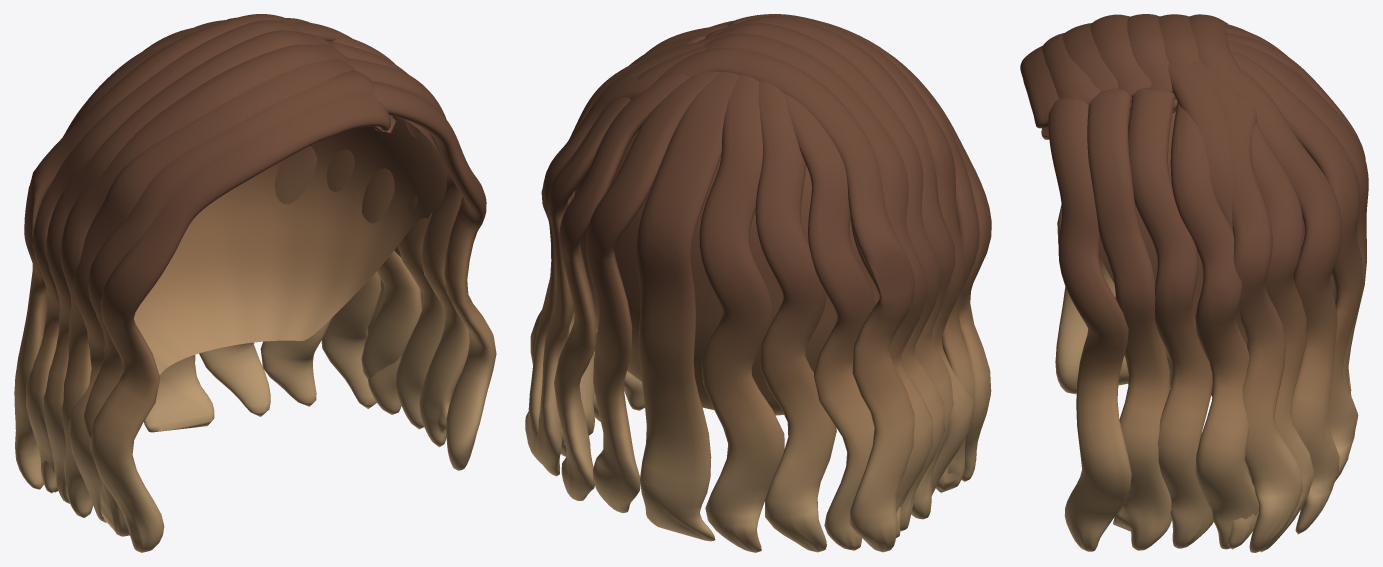
Rendered from curls-pashmina-ombre.glb.
3 renders of one model, left to right at view 1: azimuth 30°, elevation 25°; view 2: azimuth 150°, elevation 25°; view 3: azimuth 270°, elevation 25°, orthographic.
Parts seen in each view (by area): view 1: 226 hair / Hair / sculpted 0.001, 226 hair / Hair / sculpted 1.002, 226 hair / Hair / sculpted 1.001, 226 hair / Hair / sculpted 2.001; view 2: 226 hair / Hair / sculpted 0.001, 226 hair / Hair / sculpted 2.001, 226 hair / Hair / sculpted 1.002, 226 hair / Hair / sculpted 1.001; view 3: 226 hair / Hair / sculpted 1.002, 226 hair / Hair / sculpted 2.001, 226 hair / Hair / sculpted 0.001, 226 hair / Hair / sculpted 1.001.
Boxes of the visible parts, x1,y1,x2,y2 form: 226 hair / Hair / sculpted 0.001: [14, 14, 444, 552]; 226 hair / Hair / sculpted 1.002: [43, 17, 496, 536]; 226 hair / Hair / sculpted 1.001: [134, 117, 446, 375]; 226 hair / Hair / sculpted 2.001: [26, 18, 469, 522]; 226 hair / Hair / sculpted 0.001: [554, 16, 991, 552]; 226 hair / Hair / sculpted 2.001: [525, 15, 974, 550]; 226 hair / Hair / sculpted 1.002: [530, 14, 979, 552]; 226 hair / Hair / sculpted 1.001: [574, 129, 879, 415]; 226 hair / Hair / sculpted 1.002: [1042, 14, 1362, 551]; 226 hair / Hair / sculpted 2.001: [1063, 14, 1368, 552]; 226 hair / Hair / sculpted 0.001: [1020, 14, 1365, 548]; 226 hair / Hair / sculpted 1.001: [1099, 111, 1335, 396].
Size of the model in its own units: 0.9172 by 0.9886 by 0.696.
